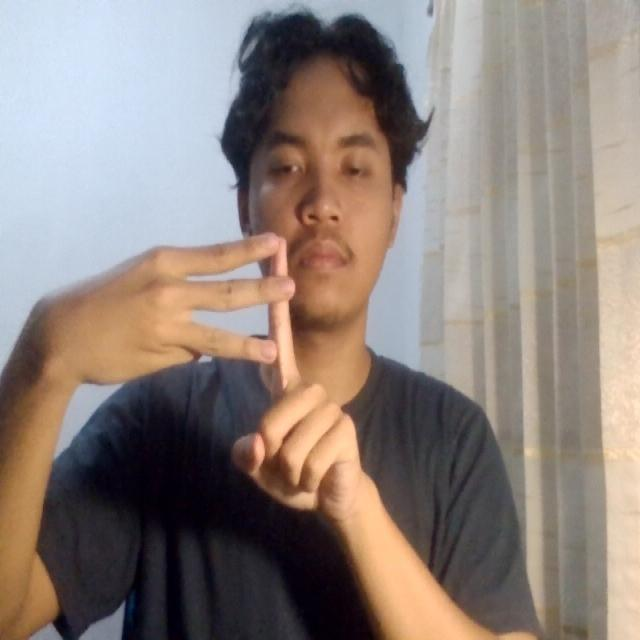B: (68, 208, 378, 547)
